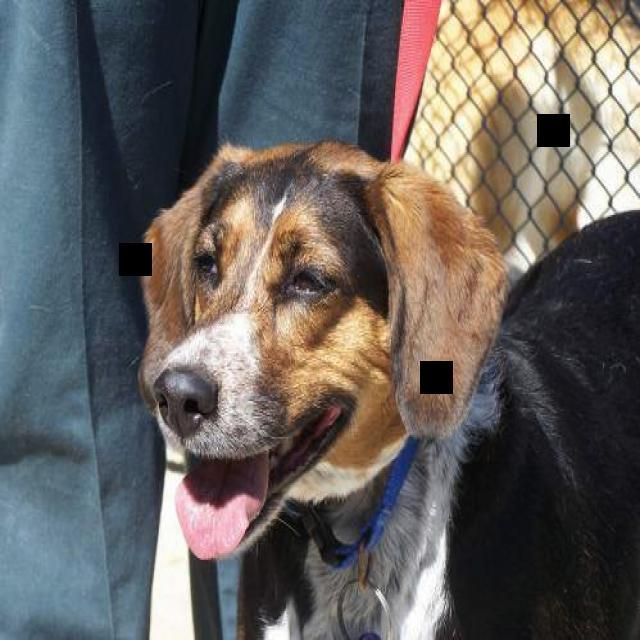adult_dog: (135, 140, 640, 639)
